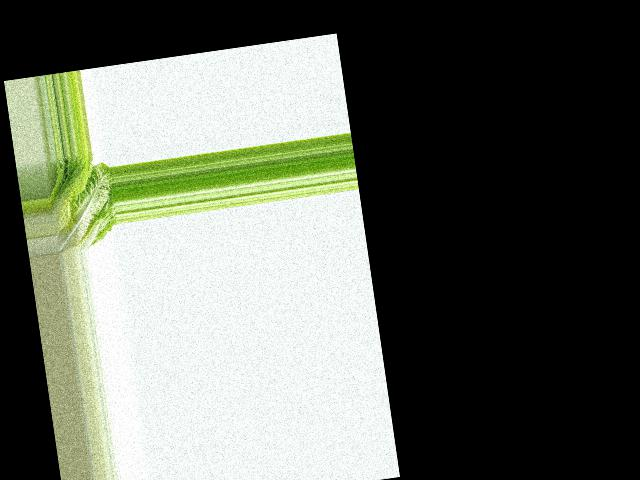lettuce: (44, 150, 119, 254)
